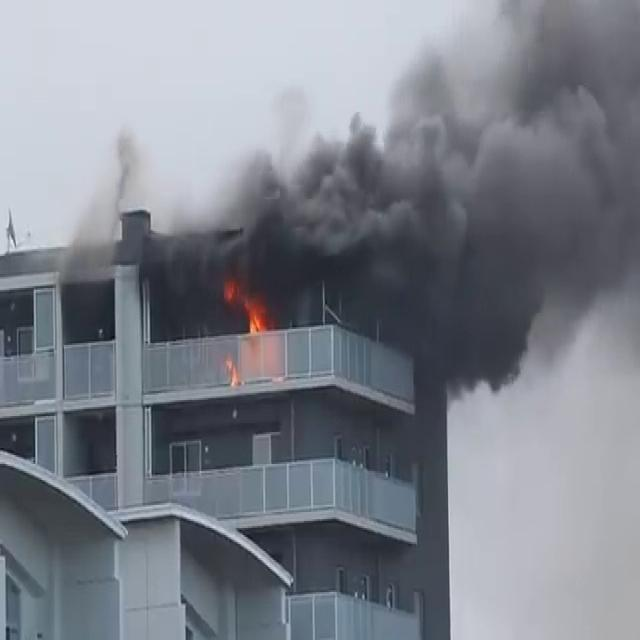Fire: (220, 271, 273, 339)
Smoke: (164, 6, 640, 390), (56, 100, 144, 274)
